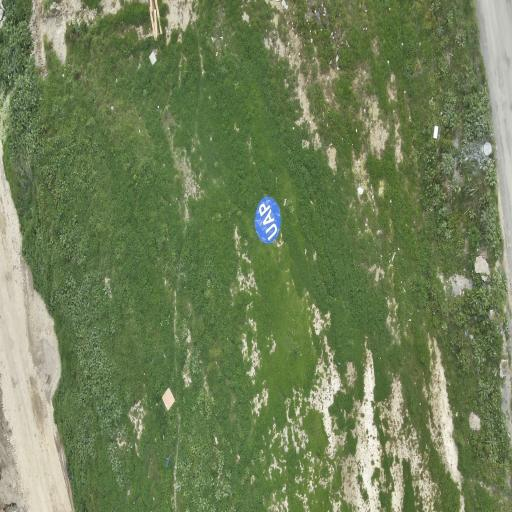UAP: (255, 197, 280, 243)
